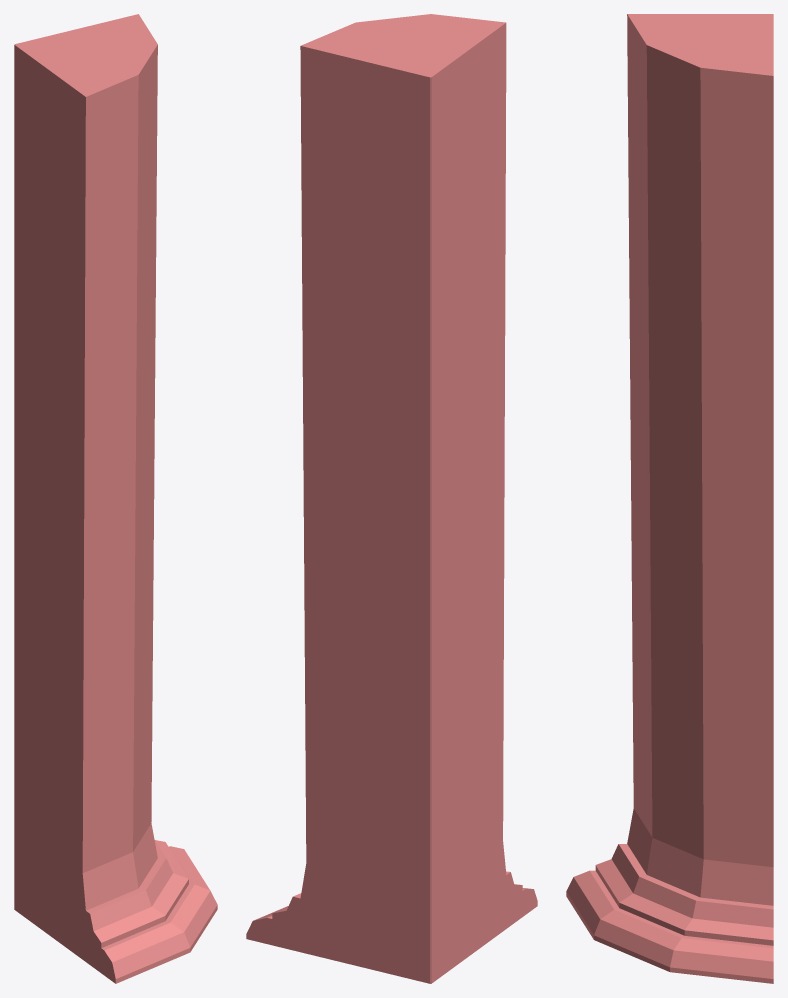
The model's file is uv mapped convex wall.fbx.
3 renders of one model, left to right at view 1: azimuth 30°, elevation 25°; view 2: azimuth 150°, elevation 25°; view 3: azimuth 270°, elevation 25°, orthographic. The views are drawn at different scales.
Parts seen in each view (by area): view 1: Convex Wall; view 2: Convex Wall; view 3: Convex Wall.
Part boxes in pixels (x1,y1,x2,y2): Convex Wall: (14, 14, 217, 983); Convex Wall: (246, 14, 537, 983); Convex Wall: (566, 14, 773, 983).
Size of the model in its own units: 21.34 by 100 by 21.33.
